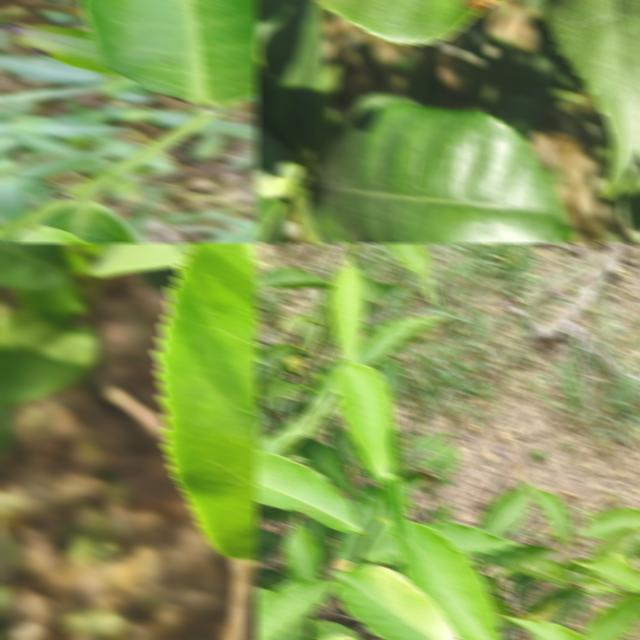Leaf: (308, 100, 572, 244), (156, 242, 258, 560), (541, 0, 640, 197), (79, 0, 258, 104), (402, 521, 502, 640), (254, 0, 326, 154), (332, 564, 459, 640), (254, 450, 364, 535), (0, 312, 99, 406), (335, 362, 394, 482), (254, 579, 336, 640), (352, 316, 446, 365), (254, 65, 296, 166), (329, 253, 365, 361), (0, 242, 71, 290), (420, 521, 520, 554), (295, 437, 352, 492), (478, 480, 533, 537), (384, 242, 435, 303), (580, 594, 640, 640), (282, 516, 321, 581), (530, 485, 572, 544), (381, 473, 408, 559), (576, 557, 640, 592), (577, 506, 640, 538), (254, 266, 333, 291), (587, 526, 640, 562), (254, 342, 305, 379), (501, 543, 555, 577), (510, 617, 588, 640), (254, 198, 290, 244), (326, 420, 356, 470), (522, 557, 569, 586), (254, 427, 296, 454), (264, 379, 307, 405), (429, 443, 460, 478), (278, 313, 322, 329), (293, 423, 308, 438)
